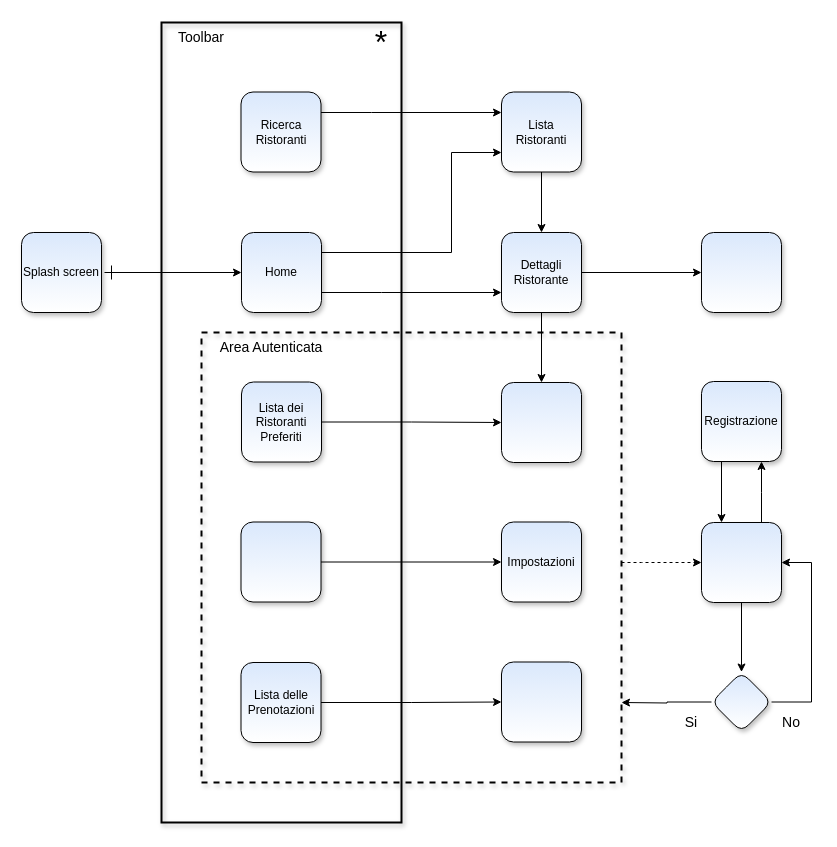
The diagram is 837 pixels wide and 847 high, and some of its shapes have lost their labels. The centre of each missing label's shape, as x and y in pixels:
"Galleria Immagini del Ristorante" belongs at (x=742, y=274).
"Login" belongs at (x=742, y=564).
"Prenotazione di un Ristorante" belongs at (x=542, y=424).
"Profilo Utente" belongs at (x=281, y=563).
"Recensione" belongs at (x=542, y=703).
